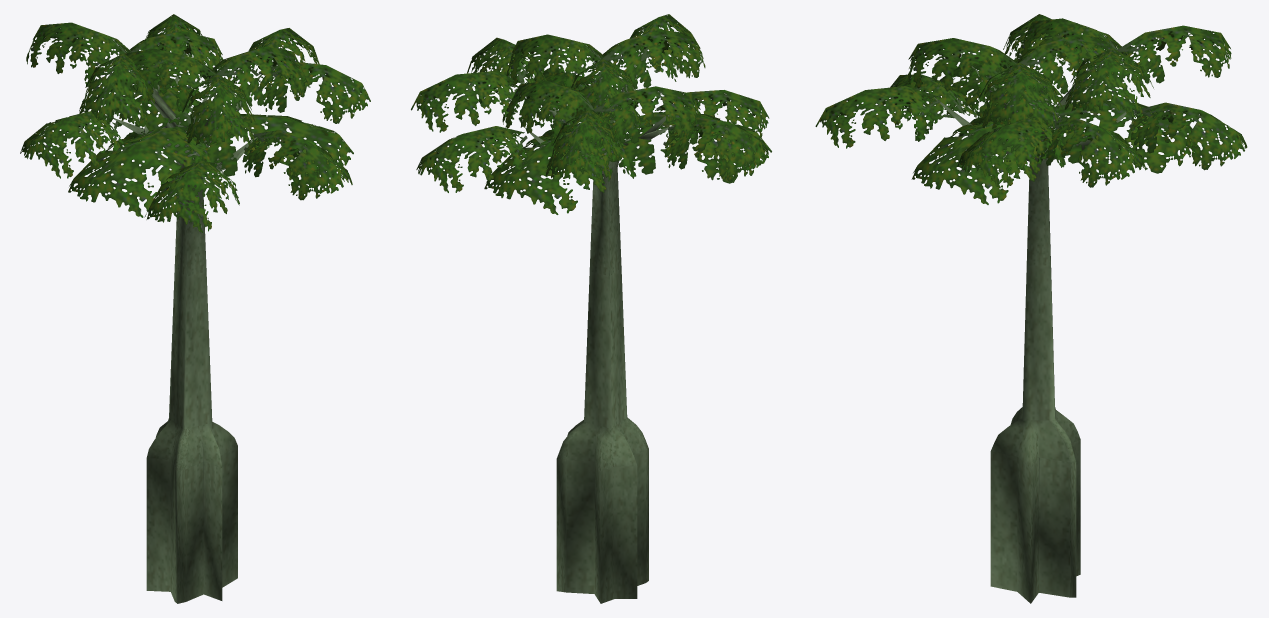
The model's file is kapok_tree_2_2.dae.
3 renders of one model, left to right at view 1: azimuth 30°, elevation 25°; view 2: azimuth 150°, elevation 25°; view 3: azimuth 270°, elevation 25°, orthographic. The views are drawn at different scales.
Parts seen in each view (by area): view 1: Cube; view 2: Cube; view 3: Cube.
Boxes of the visible parts, box(x1,y1,x2,y2) form: Cube: box(20, 14, 370, 603); Cube: box(411, 14, 771, 603); Cube: box(815, 14, 1247, 603).
Size of the model in its own units: 0.6483 by 0.7473 by 0.9981.
1 material, 1 textured.
